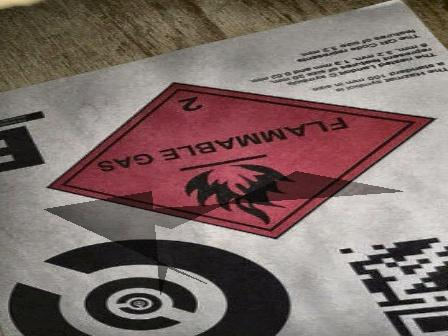flammable: (54, 83, 438, 239)
